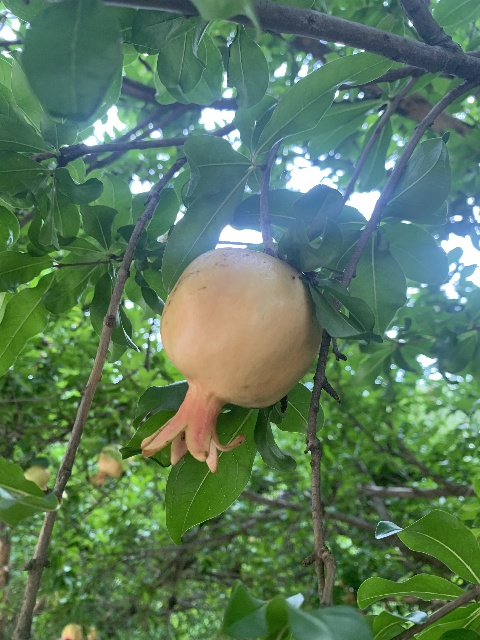mid-growth: (140, 246, 321, 472), (88, 452, 123, 486), (23, 464, 52, 491)
